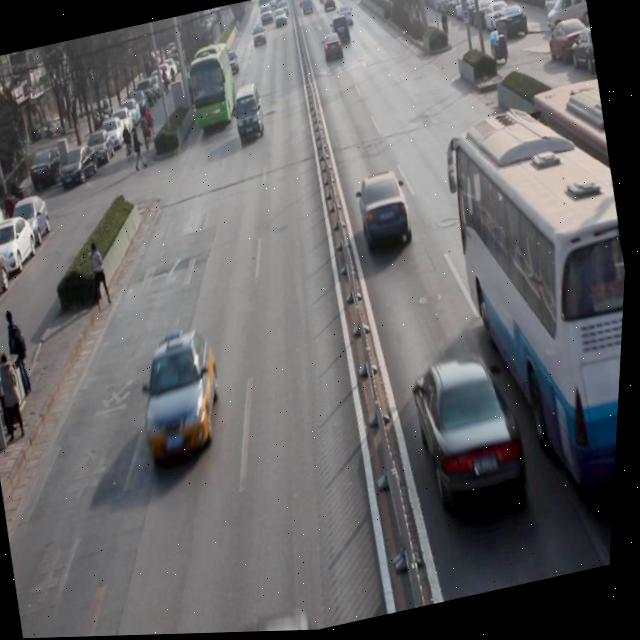car: (408, 345, 546, 526), (137, 328, 237, 464), (352, 166, 421, 259), (321, 31, 348, 65), (328, 16, 355, 48), (250, 24, 269, 51), (227, 48, 241, 75)
truck: (230, 86, 271, 145)
van: (429, 92, 636, 520), (520, 81, 636, 340), (182, 41, 242, 134)
